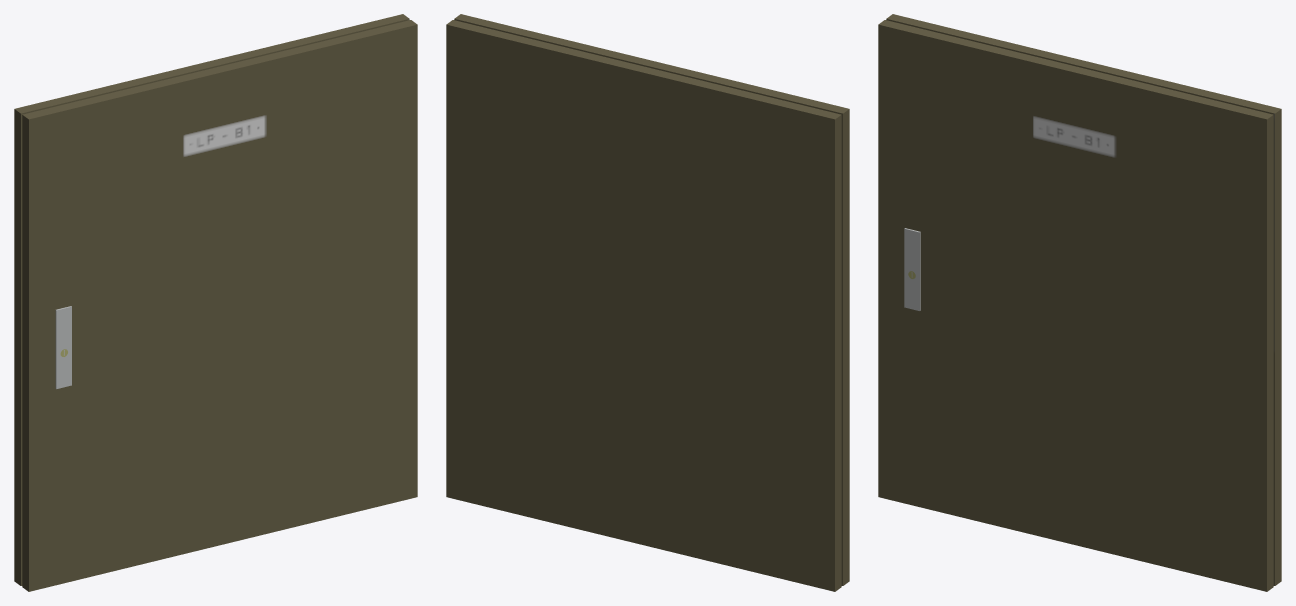
Rendered from LC_3140_switchboard_A_LOD1.fbx.
The picture shows the model from 3 angles, left to right: view 1: azimuth 30°, elevation 25°; view 2: azimuth 150°, elevation 25°; view 3: azimuth 330°, elevation 25°; orthographic projection.
Parts seen in each view (by area): view 1: LC_3140_sb_A_LOD1; view 2: LC_3140_sb_A_LOD1; view 3: LC_3140_sb_A_LOD1.
Boxes of the visible parts, <box> form: LC_3140_sb_A_LOD1: <box>14,14,417,591</box>; LC_3140_sb_A_LOD1: <box>446,14,849,591</box>; LC_3140_sb_A_LOD1: <box>878,14,1281,591</box>.
Size of the model in its own units: 62 by 72 by 4.25.
1 material, 1 textured.
